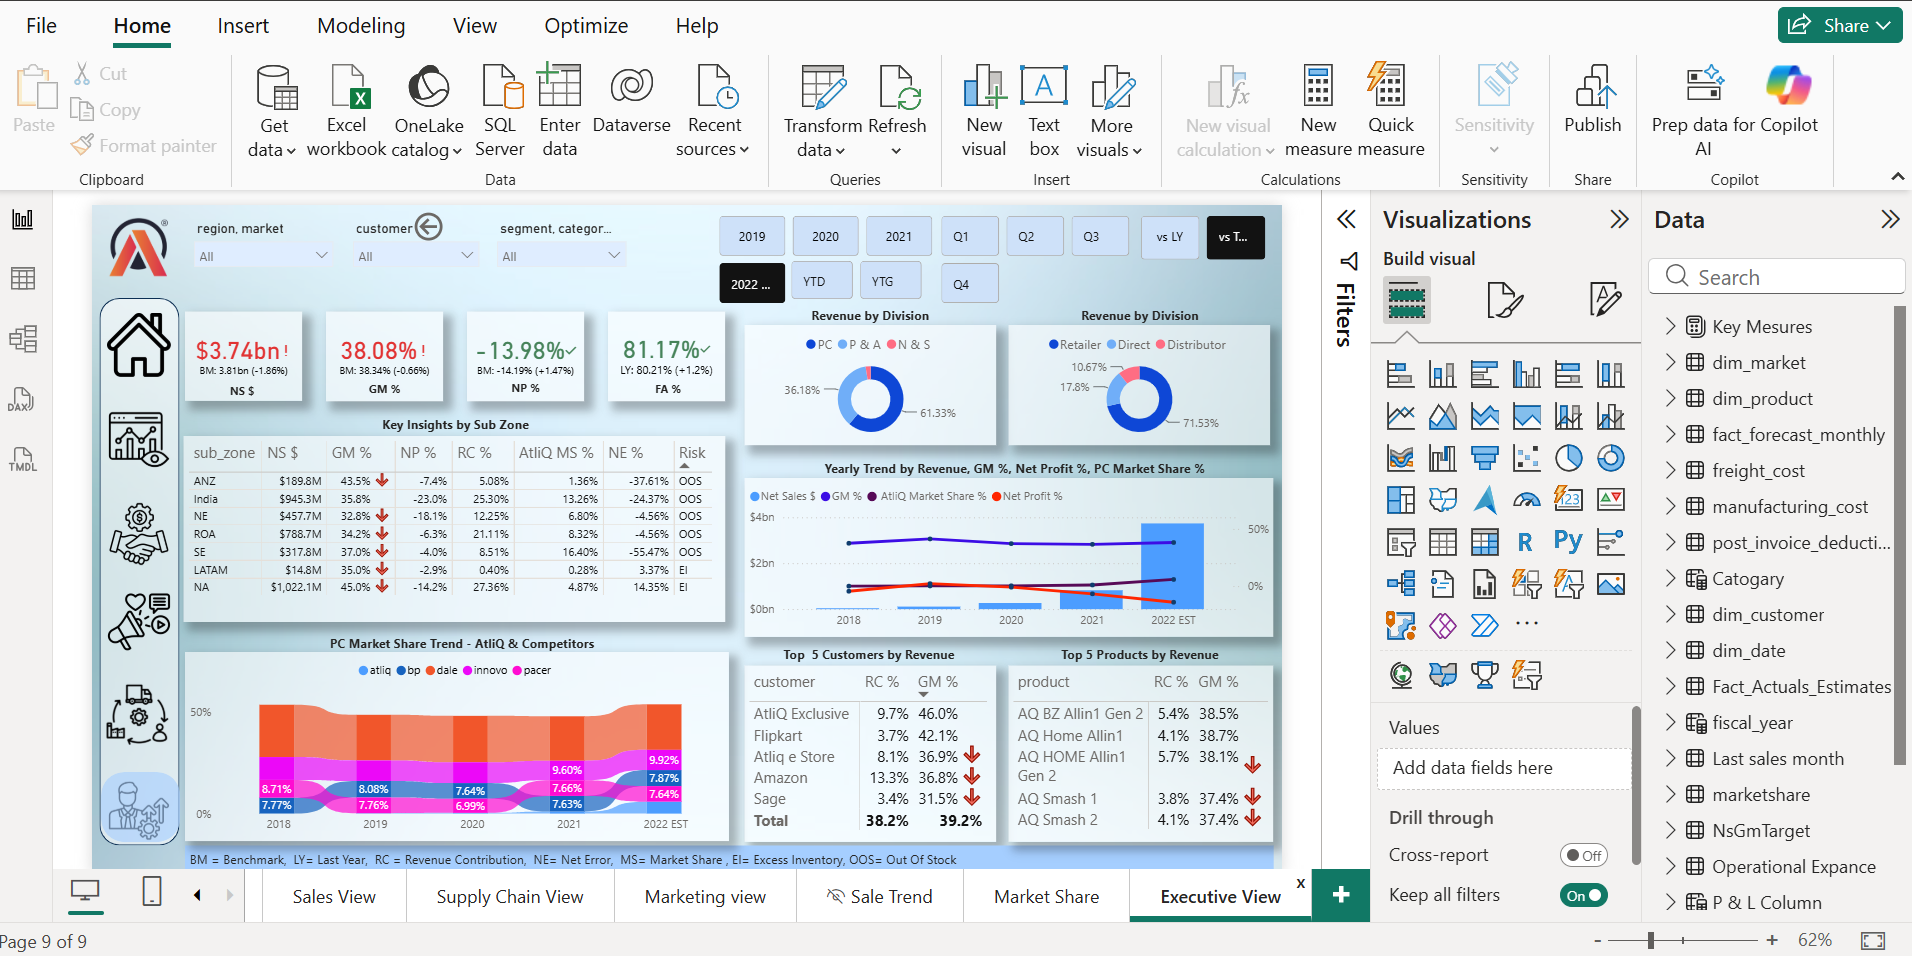

Layout of this report page (visuals, bound fields, positions):
{"tool":"powerbi","page":{"name":"Executive View","canvas":[1280,720],"ordinal":8},"visuals":[{"type":"advancedSlicerVisual","fields":{"Values":["fiscal_year.FY Desc"]},"box":[668.8,6,240,105.6],"z":0},{"type":"tableEx","fields":{"Values":["Sub_Zone.sub_zone","Key Mesures.Net Sales $","Key Mesures.GM %","Key Mesures.Net Profit %","Key Mesures.RC %","Key Mesures.AtliQ Market Share","Key Mesures.Net Error %","Key Mesures.Risk"]},"box":[98.3,248.3,582.8,200],"z":1000},{"type":"advancedSlicerVisual","fields":{"Values":["dim_date.Quarter"]},"box":[908.8,6,214.4,105.6],"z":2000},{"type":"advancedSlicerVisual","fields":{"Values":["dim_date.YTD_YTG"]},"box":[747.2,55.6,150.4,51.2],"z":3000},{"type":"pivotTable","fields":{"Rows":["dim_customer.customer"],"Values":["Key Mesures.RC %","Key Mesures.GM %"]},"box":[701.7,494.8,270.7,189.7],"z":4000},{"type":"actionButton","box":[341.7,3.4,100,40],"z":6000},{"type":"textbox","box":[105.2,220.7,575.9,39.7],"z":7000},{"type":"slicer","fields":{"Values":[" dim_market.region"," dim_market.market"]},"box":[100.8,10.8,169.6,65.6],"z":8000},{"type":"slicer","fields":{"Values":[" dim_product.segment"," dim_product.category"," dim_product.product"]},"box":[425.6,10.8,158.4,65.6],"z":9000},{"type":"slicer","fields":{"Values":["dim_customer.customer"]},"box":[270.4,10.8,155.2,65.6],"z":10000},{"type":"kpi","fields":{"Goal":["Key Mesures.NS BM $"],"Indicator":["Key Mesures.Net Sales $"],"TrendLine":[" freight_cost.fiscal_year"]},"box":[100.1,114.4,126,96],"z":11000},{"type":"textbox","box":[98.6,183.2,129.6,28.8],"z":12000},{"type":"kpi","fields":{"Goal":["Key Mesures.GM % BM"],"Indicator":["Key Mesures.Gross Margin %"],"TrendLine":[" freight_cost.fiscal_year"]},"box":[251.7,113.8,125.9,96.6],"z":13000},{"type":"kpi","fields":{"Goal":["Key Mesures.NP % BM"],"Indicator":["Key Mesures.Net_Profit %"],"TrendLine":[" freight_cost.fiscal_year"]},"box":[403.4,113.8,125.9,96.6],"z":14000},{"type":"textbox","box":[251.7,182.8,129.6,28.8],"z":15000},{"type":"textbox","box":[403.4,181,129.6,28.8],"z":16000},{"type":"shape","box":[8,100.2,85.9,588.5],"z":17000},{"type":"image","box":[8.2,13.1,85.2,63.9],"z":18000},{"type":"image","box":[16.4,213.1,68.9,78.7],"z":19000},{"type":"image","box":[16.4,116.4,68.9,68.9],"z":20000},{"type":"image","box":[16.4,411.5,68.9,73.8],"z":21000},{"type":"image","box":[16.4,318,68.9,72.1],"z":22000},{"type":"image","box":[14.3,509,68.9,77],"z":23000},{"type":"image","box":[15.9,612.4,68.9,77],"z":24000},{"type":"shape","box":[10.3,610.3,85.2,75.4],"z":25000},{"type":"textbox","box":[100,687.9,1170.7,32.8],"z":26000},{"type":"advancedSlicerVisual","fields":{"Values":["Set BM.Benchmark"]},"box":[1123.2,6,145.6,57.6],"z":27000},{"type":"cardVisual","fields":{"Data":["Key Mesures.BM Massage"]},"box":[110.3,50.4,521.4,64],"z":28000},{"type":"kpi","fields":{"Goal":["Key Mesures.Forecast Accuracy % LY"],"Indicator":["Key Mesures.Forecast Accuracy %"],"TrendLine":[" freight_cost.fiscal_year"]},"box":[555.2,113.8,125.9,96.6],"z":29000},{"type":"textbox","box":[553.4,182.8,132.8,28.8],"z":30000},{"type":"donutChart","fields":{"Category":[" dim_product.division"],"Y":["Key Mesures.Net Sales $"]},"box":[701.7,129.3,270.7,129.3],"z":31000},{"type":"textbox","box":[701.7,103.4,270.7,32.8],"z":32000},{"type":"donutChart","fields":{"Category":["dim_customer.channel"],"Y":["Key Mesures.Net Sales $"]},"box":[986.2,129.3,281,129.3],"z":33000},{"type":"textbox","box":[986.2,103.4,282.8,36.2],"z":34000},{"type":"lineStackedColumnComboChart","fields":{"Category":["fiscal_year.FY Desc"],"Y":["Key Mesures.Net Sales $"],"Y2":["Key Mesures.GM %","Key Mesures.Market Share %","Key Mesures.Net Profit %"]},"box":[701.7,293.1,569,170.7],"z":35001},{"type":"textbox","box":[710.3,267.2,569,37.9],"z":35002},{"type":"textbox","box":[698.3,467.2,274.1,37.9],"z":35003},{"type":"ribbonChart","fields":{"Category":["fiscal_year.FY Desc"],"Series":["marketshare.Menufacturer"],"Y":["Key Mesures.Market Share %"]},"box":[100,481,584.5,203.4],"z":35004},{"type":"pivotTable","fields":{"Rows":[" dim_product.product"],"Values":["Key Mesures.RC %","Key Mesures.GM %"]},"box":[986.2,494.8,284.5,189.7],"z":35005},{"type":"textbox","box":[986.2,467.2,282.8,37.9],"z":35006},{"type":"textbox","box":[105.2,456.9,586.2,37.9],"z":35007}]}

Visuals, with their boxes on the page's 1280x720 design canvas (x1, y1, x2, y2). These are canvas units, not pixel positions in the 1912x956 screenshot, which may show the page scaled, cropped or inside an application window:
advancedSlicerVisual - fiscal_year.FY Desc: [x1=669, y1=6, x2=909, y2=112]
tableEx - Sub_Zone.sub_zone x Key Mesures.Net Sales $: [x1=98, y1=248, x2=681, y2=448]
advancedSlicerVisual - dim_date.Quarter: [x1=909, y1=6, x2=1123, y2=112]
advancedSlicerVisual - dim_date.YTD_YTG: [x1=747, y1=56, x2=898, y2=107]
pivotTable - dim_customer.customer x Key Mesures.RC %: [x1=702, y1=495, x2=972, y2=684]
actionButton: [x1=342, y1=3, x2=442, y2=43]
textbox: [x1=105, y1=221, x2=681, y2=260]
slicer -  dim_market.region x  dim_market.market: [x1=101, y1=11, x2=270, y2=76]
slicer -  dim_product.segment x  dim_product.category: [x1=426, y1=11, x2=584, y2=76]
slicer - dim_customer.customer: [x1=270, y1=11, x2=426, y2=76]
kpi - Key Mesures.NS BM $ x Key Mesures.Net Sales $: [x1=100, y1=114, x2=226, y2=210]
textbox: [x1=99, y1=183, x2=228, y2=212]
kpi - Key Mesures.GM % BM x Key Mesures.Gross Margin %: [x1=252, y1=114, x2=378, y2=210]
kpi - Key Mesures.NP % BM x Key Mesures.Net_Profit %: [x1=403, y1=114, x2=529, y2=210]
textbox: [x1=252, y1=183, x2=381, y2=212]
textbox: [x1=403, y1=181, x2=533, y2=210]
shape: [x1=8, y1=100, x2=94, y2=689]
image: [x1=8, y1=13, x2=93, y2=77]
image: [x1=16, y1=213, x2=85, y2=292]
image: [x1=16, y1=116, x2=85, y2=185]
image: [x1=16, y1=412, x2=85, y2=485]
image: [x1=16, y1=318, x2=85, y2=390]
image: [x1=14, y1=509, x2=83, y2=586]
image: [x1=16, y1=612, x2=85, y2=689]
shape: [x1=10, y1=610, x2=96, y2=686]
textbox: [x1=100, y1=688, x2=1271, y2=721]
advancedSlicerVisual - Set BM.Benchmark: [x1=1123, y1=6, x2=1269, y2=64]
cardVisual - Key Mesures.BM Massage: [x1=110, y1=50, x2=632, y2=114]
kpi - Key Mesures.Forecast Accuracy % LY x Key Mesures.Forecast Accuracy %: [x1=555, y1=114, x2=681, y2=210]
textbox: [x1=553, y1=183, x2=686, y2=212]
donutChart -  dim_product.division x Key Mesures.Net Sales $: [x1=702, y1=129, x2=972, y2=259]
textbox: [x1=702, y1=103, x2=972, y2=136]
donutChart - dim_customer.channel x Key Mesures.Net Sales $: [x1=986, y1=129, x2=1267, y2=259]
textbox: [x1=986, y1=103, x2=1269, y2=140]
lineStackedColumnComboChart - fiscal_year.FY Desc x Key Mesures.Net Sales $: [x1=702, y1=293, x2=1271, y2=464]
textbox: [x1=710, y1=267, x2=1279, y2=305]
textbox: [x1=698, y1=467, x2=972, y2=505]
ribbonChart - fiscal_year.FY Desc x marketshare.Menufacturer: [x1=100, y1=481, x2=684, y2=684]
pivotTable -  dim_product.product x Key Mesures.RC %: [x1=986, y1=495, x2=1271, y2=684]
textbox: [x1=986, y1=467, x2=1269, y2=505]
textbox: [x1=105, y1=457, x2=691, y2=495]
